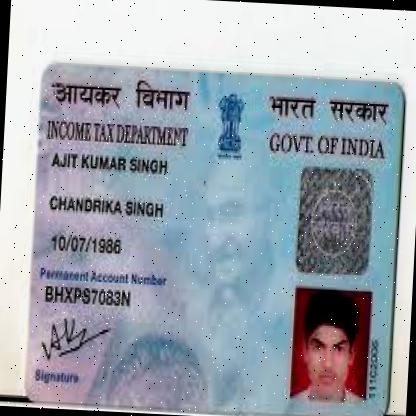pan_card: (15, 45, 409, 415)
